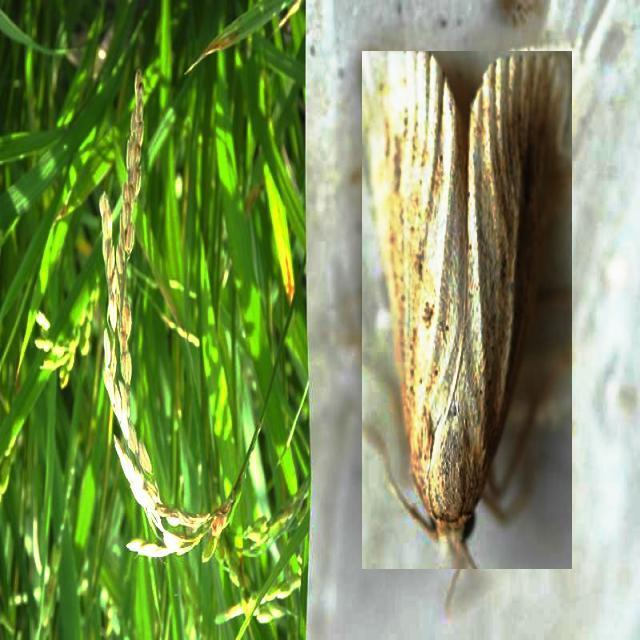stem-borer: (362, 51, 572, 569)
